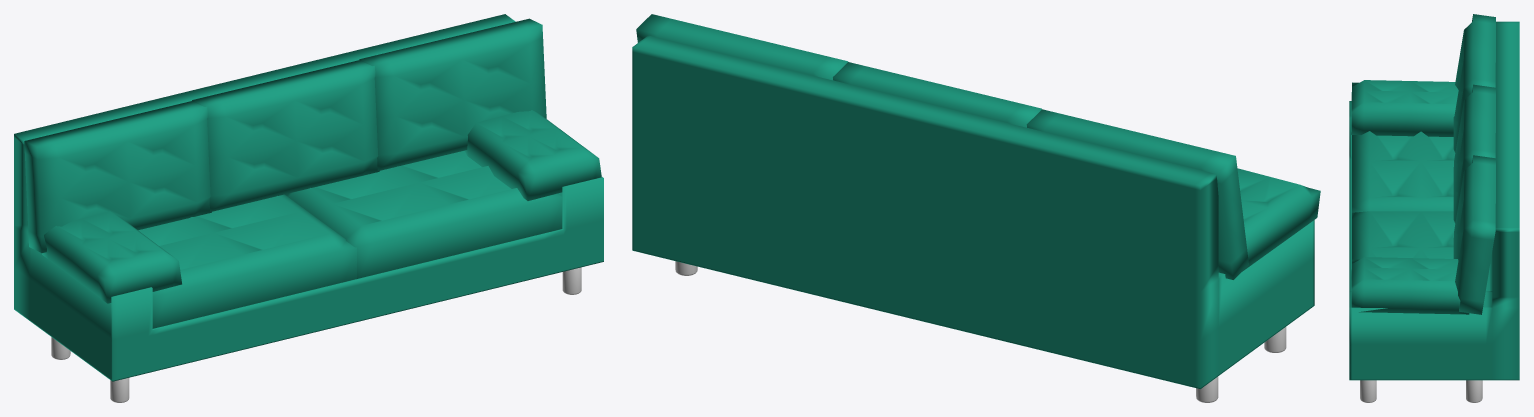
File: teal.gltf
3 renders of one model, left to right at view 1: azimuth 30°, elevation 25°; view 2: azimuth 150°, elevation 25°; view 3: azimuth 270°, elevation 25°, orthographic. The views are drawn at different scales.
Visible parts, largest first — view 1: Couch, Plane003, Plane, Plane005, Plane004, Plane001, Plane006, Plane007; view 2: Couch, Plane005, Plane006, Plane004, Plane003; view 3: Couch, Plane001, Plane007, Plane006, Plane004, Plane, Plane003, Plane005, Circle001, Circle.
Boxes of the visible parts, x1,y1,x2,y2 form: Couch: (14,14,603,381); Plane003: (192,60,379,211); Plane: (285,150,562,278); Plane005: (24,101,211,252); Plane004: (359,18,546,170); Plane001: (138,194,356,328); Plane006: (42,211,181,303); Plane007: (465,110,601,200); Couch: (632,35,1314,389); Plane005: (1026,109,1248,279); Plane006: (1237,168,1320,271); Plane004: (636,14,848,80); Plane003: (833,62,1041,127); Couch: (1349,21,1519,380); Plane001: (1352,131,1455,212); Plane007: (1351,257,1469,314); Plane006: (1351,80,1458,136); Plane004: (1453,155,1495,314); Plane: (1352,211,1490,291); Plane003: (1453,84,1495,223); Plane005: (1453,14,1495,152); Circle001: (1466,380,1482,402); Circle: (1360,380,1376,402).
Bounding box in the file's own units: 5.96 × 2.41 × 2.
